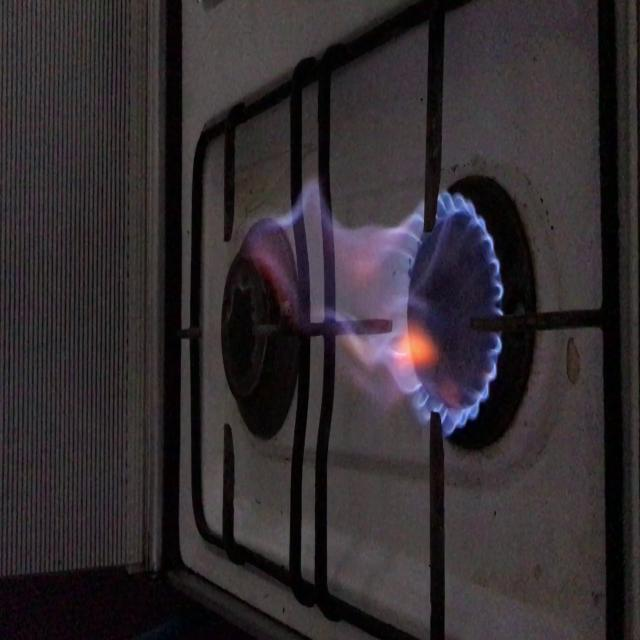fire: (280, 194, 502, 427)
